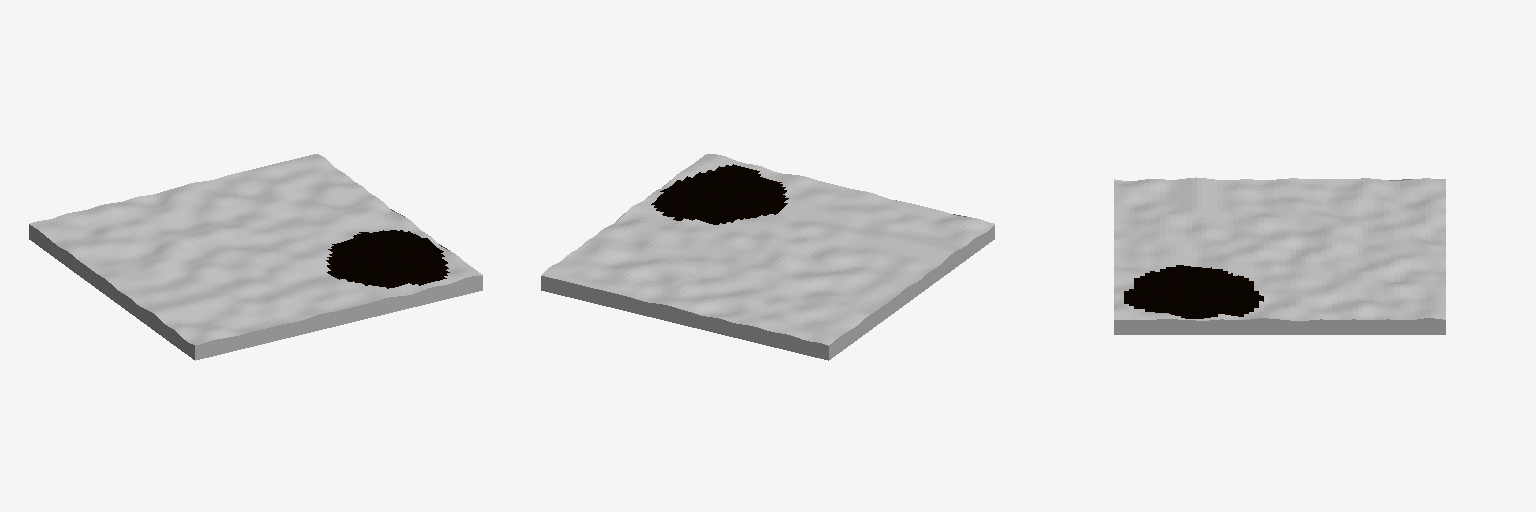
Rendered from Plains_01.obj.
The picture shows the model from 3 angles: view 1: azimuth 30°, elevation 25°; view 2: azimuth 150°, elevation 25°; view 3: azimuth 270°, elevation 25°; orthographic projection.
Parts seen in each view (by area): view 1: Cube; view 2: Cube; view 3: Cube.
Part boxes in pixels (x1,y1,x2,y2): Cube: (29,154,482,360); Cube: (541,154,994,360); Cube: (1114,177,1445,334).
Bounding box in the file's own units: 400 × 23.13 × 400.